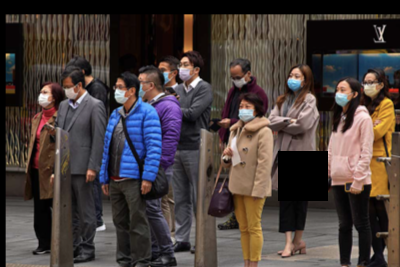with_mask: (361, 78, 378, 98), (285, 72, 302, 92), (333, 86, 349, 107), (112, 83, 127, 105), (236, 103, 253, 122), (176, 61, 192, 81), (61, 83, 77, 100), (36, 89, 51, 107), (230, 74, 246, 88), (137, 77, 147, 98)
